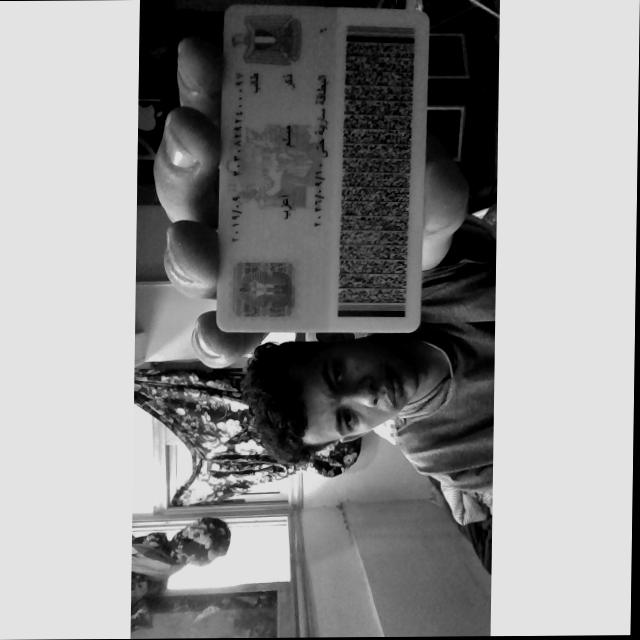id_card: (217, 5, 429, 332)
